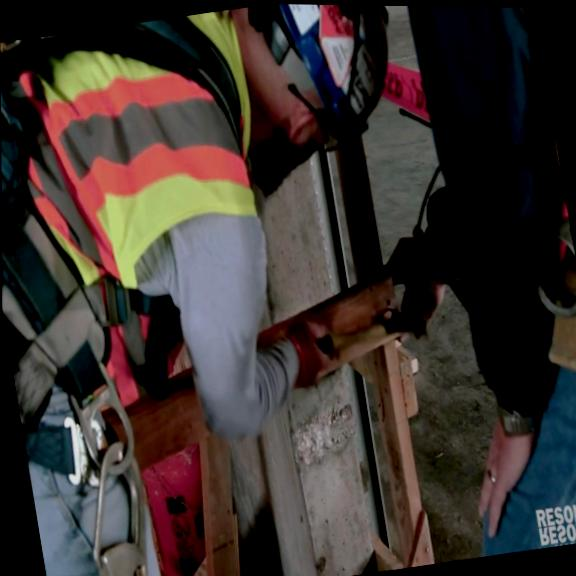safety_vest: (0, 5, 295, 419)
